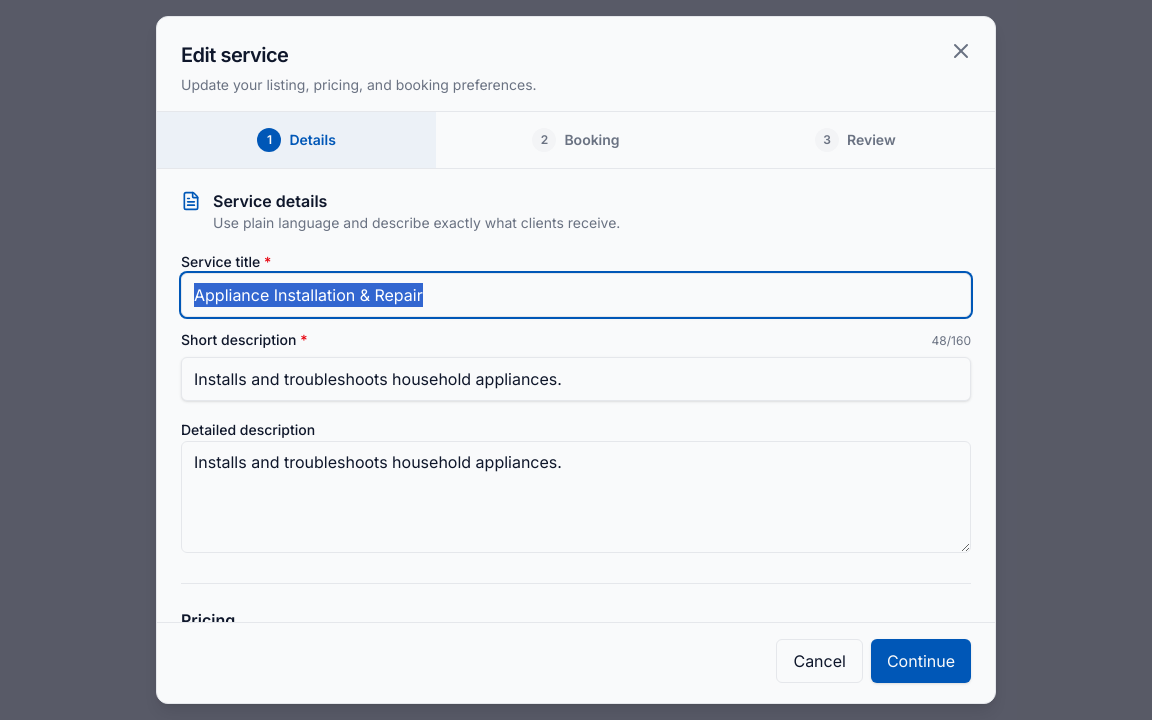
Test: ProfileEditModal › requires a payment preference before review
This screenshot has width=1152, height=720.
Click the button "Continue" at (921, 661), box [871,639,971,683]
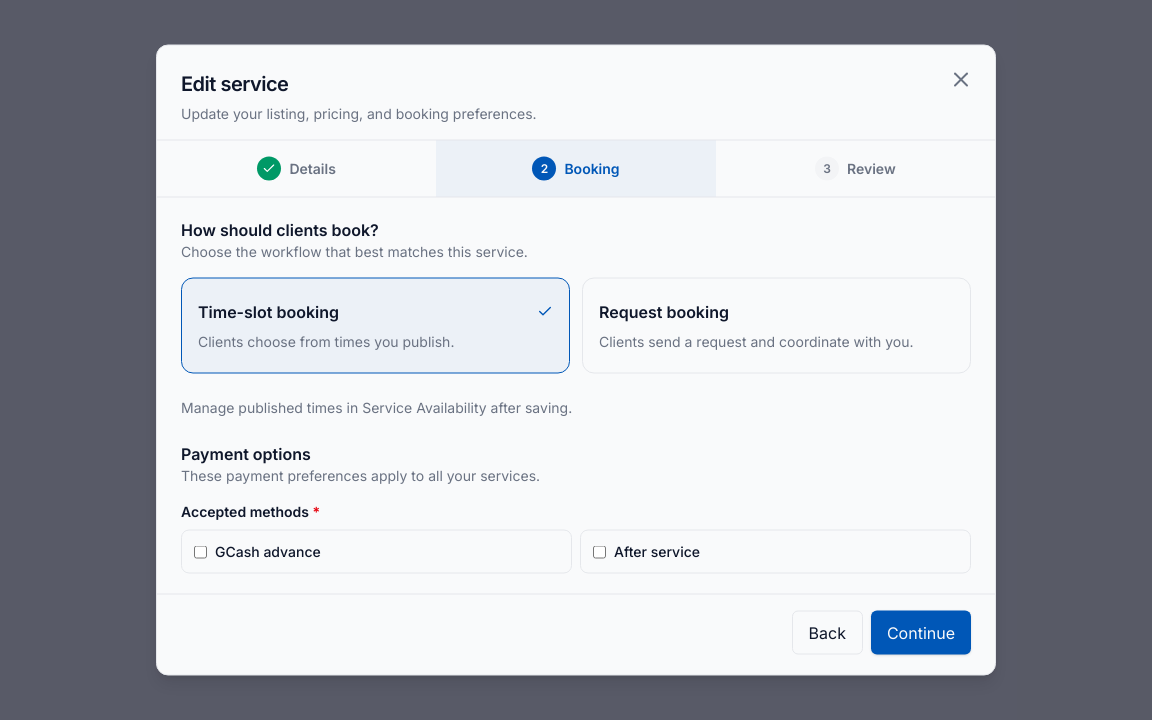
Click the button "Continue" at (921, 632), box [871,610,971,654]
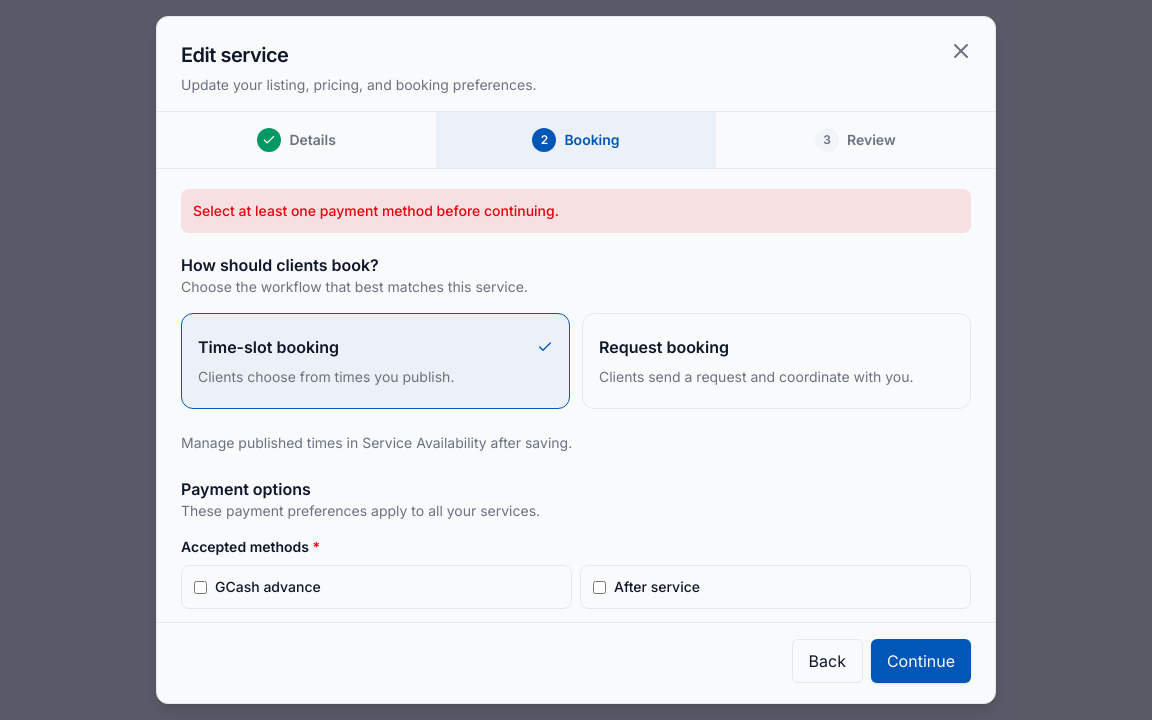
Check: the message shows "Select at least one payment method", box [193,202,559,219]
